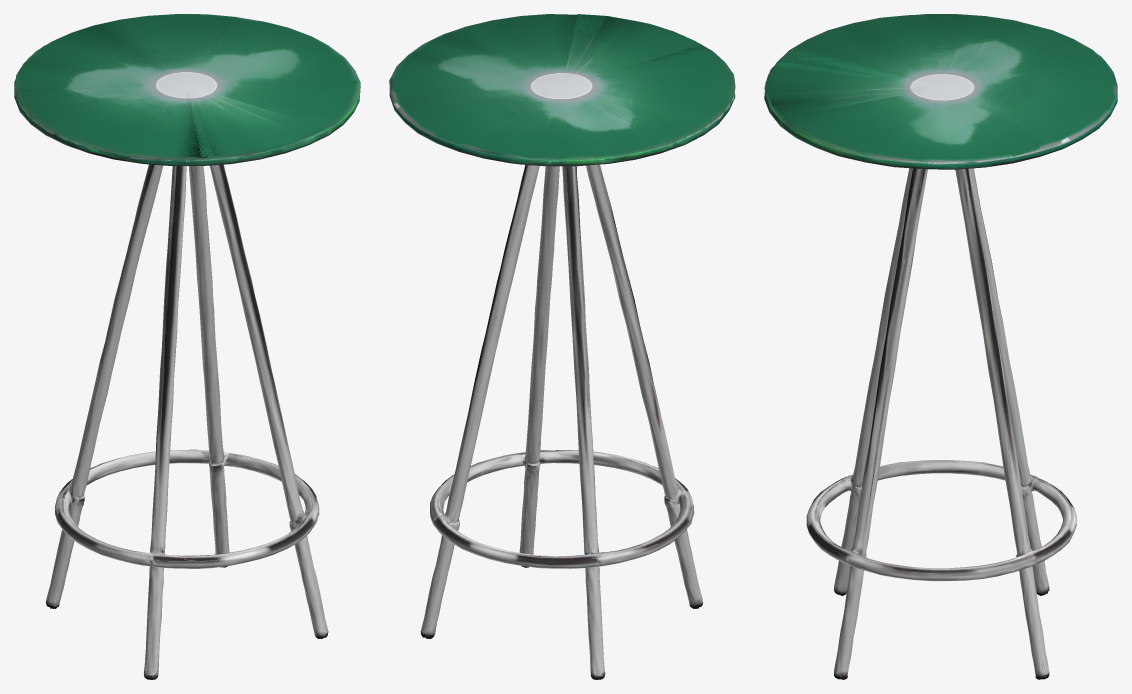
Rendered from Neo_Bar_Table_0404041036_texture.glb.
3 renders of one model, left to right at view 1: azimuth 30°, elevation 25°; view 2: azimuth 150°, elevation 25°; view 3: azimuth 270°, elevation 25°, orthographic. The views are drawn at different scales.
Visible parts, largest first — view 1: Mesh_0.001; view 2: Mesh_0.001; view 3: Mesh_0.001.
Part boxes in pixels (<box>): Mesh_0.001: <box>14,14,360,679</box>; Mesh_0.001: <box>389,14,735,679</box>; Mesh_0.001: <box>764,14,1117,679</box>.
Size of the model in its own units: 0.6221 by 1.07 by 0.6221.
Materials: 1 (1 with a texture image).
